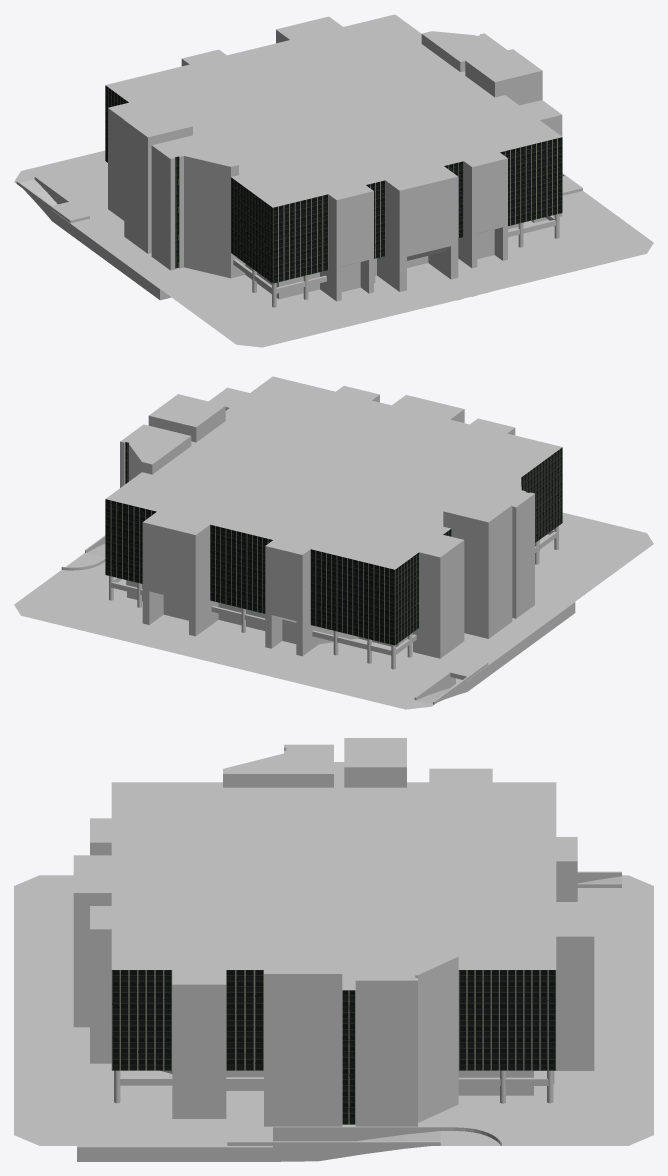
The model's file is Shopping-01.fbx.
3 views of the same model, one above another, from view 1: azimuth 30°, elevation 25°; view 2: azimuth 150°, elevation 25°; view 3: azimuth 270°, elevation 25° (orthographic). The views are drawn at different scales.
Visible parts, largest first — view 1: Shopping-01; view 2: Shopping-01; view 3: Shopping-01.
Part boxes in pixels (x1,y1,x2,y2): Shopping-01: [14, 14, 653, 347]; Shopping-01: [14, 376, 653, 709]; Shopping-01: [14, 738, 653, 1161].
Size of what is drawn, in the model's own units: 172 by 50.85 by 172.
